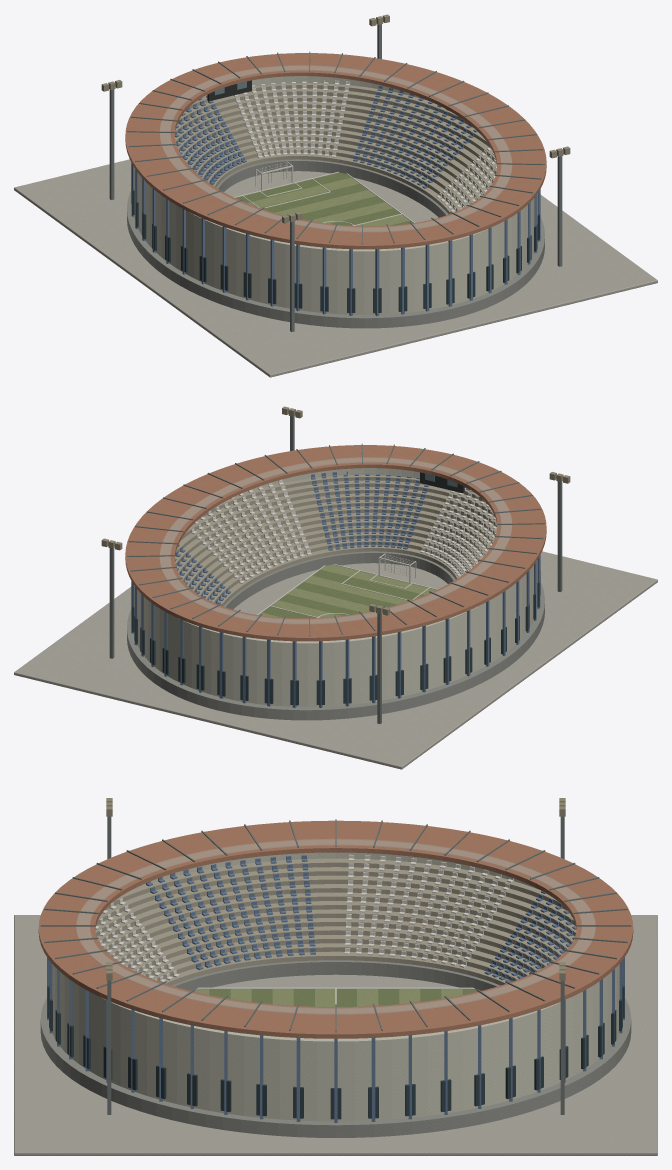
Rendered from EXP_STADIUM.glb.
The picture shows the model from 3 angles, top to bottom: view 1: azimuth 30°, elevation 25°; view 2: azimuth 150°, elevation 25°; view 3: azimuth 270°, elevation 25°; orthographic projection. The views are drawn at different scales.
Parts seen in each view (by area): view 1: EXP_STADIUM_Visual; view 2: EXP_STADIUM_Visual; view 3: EXP_STADIUM_Visual.
Boxes of the visible parts, left/top/right/bottom form: EXP_STADIUM_Visual: left=14, top=14, right=657, bottom=377; EXP_STADIUM_Visual: left=14, top=406, right=657, bottom=769; EXP_STADIUM_Visual: left=14, top=798, right=657, bottom=1155.
Size of what is drawn, in the model's own units: 13.92 by 4.13 by 15.92.
Materials: 17 (9 with a texture image).
